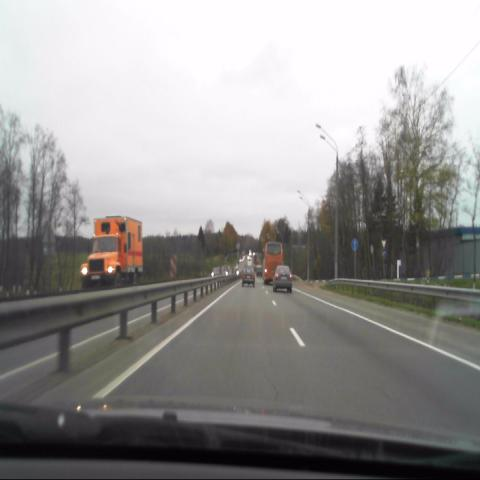4_1_1: (351, 237, 358, 250)
